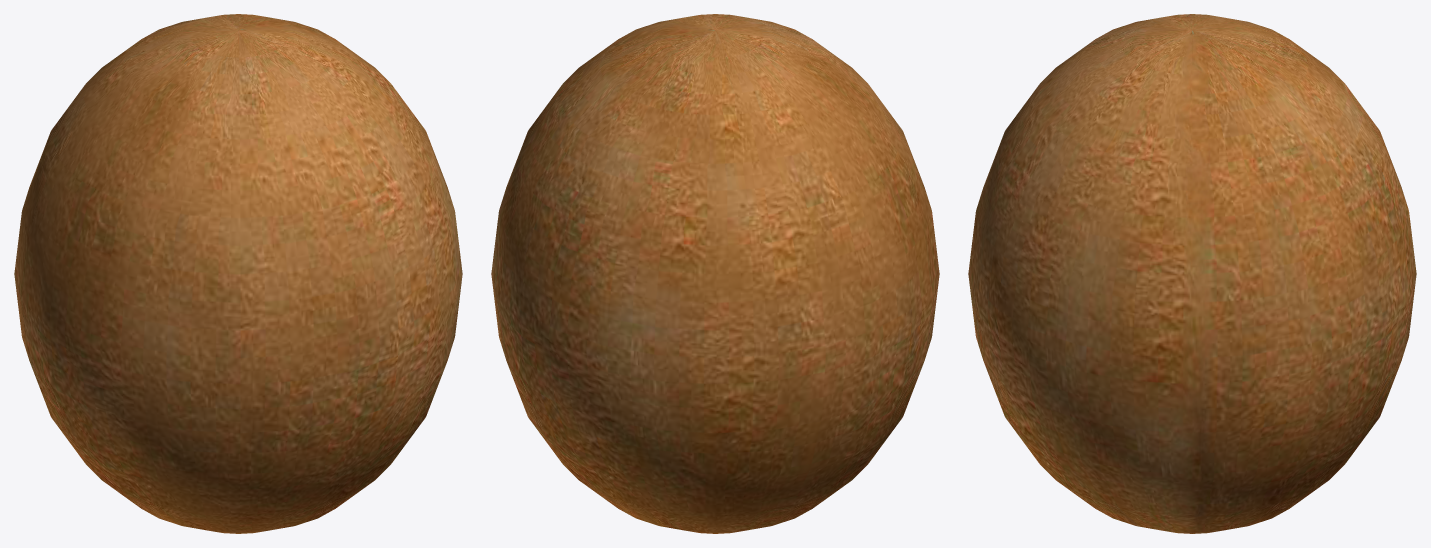
Rendered from kiwi.obj.
3 views of the same model, side by side, from view 1: azimuth 30°, elevation 25°; view 2: azimuth 150°, elevation 25°; view 3: azimuth 270°, elevation 25° (orthographic).
Bounding box in the file's own units: 60 × 72 × 60.
Materials: 1 (1 with a texture image).
